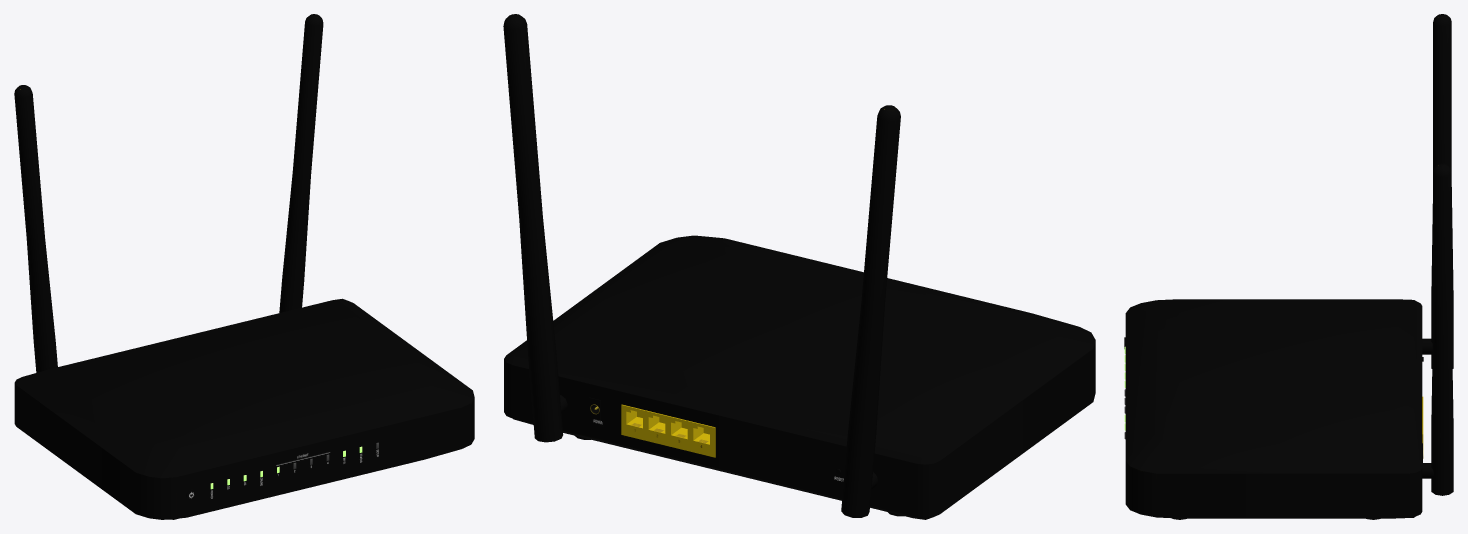
The model's file is 3d_router.glb.
The picture shows the model from 3 angles, left to right: view 1: azimuth 30°, elevation 25°; view 2: azimuth 150°, elevation 25°; view 3: azimuth 270°, elevation 25°; orthographic projection. The views are drawn at different scales.
Parts seen in each view (by area): view 1: Router; view 2: Router; view 3: Router.
Part boxes in pixels (x1,y1,x2,y2): Router: [14, 14, 474, 519]; Router: [503, 14, 1095, 519]; Router: [1124, 14, 1453, 519].
Size of the model in its own units: 0.2029 by 0.1979 by 0.1628.
Materials: 1 (1 with a texture image).
